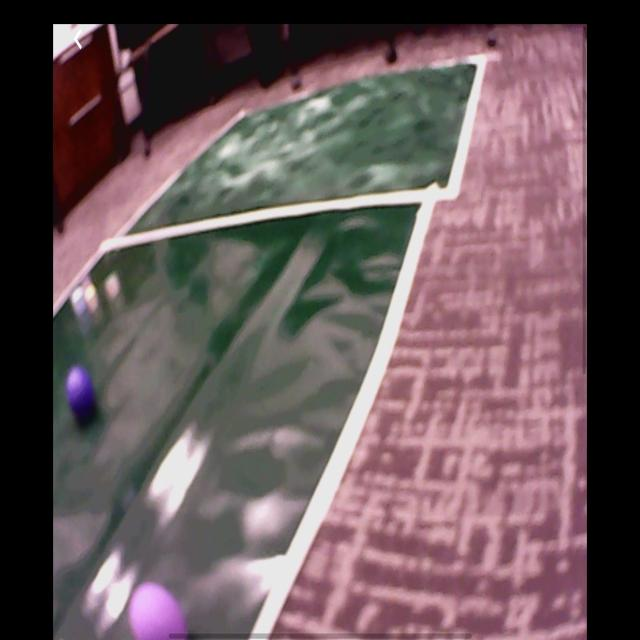ball: (127, 581, 190, 640), (67, 365, 94, 417)
